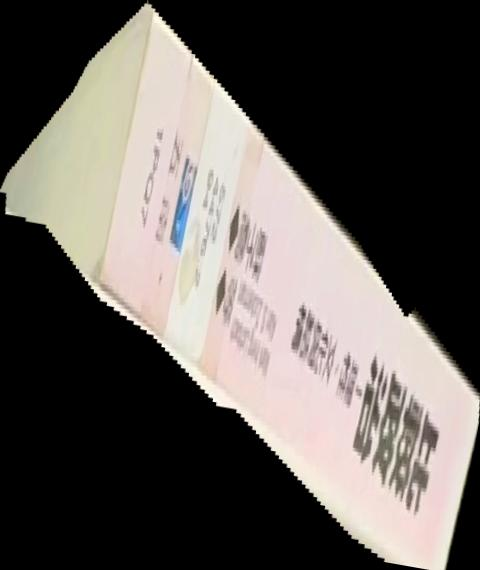flat: (1, 1, 480, 570)
